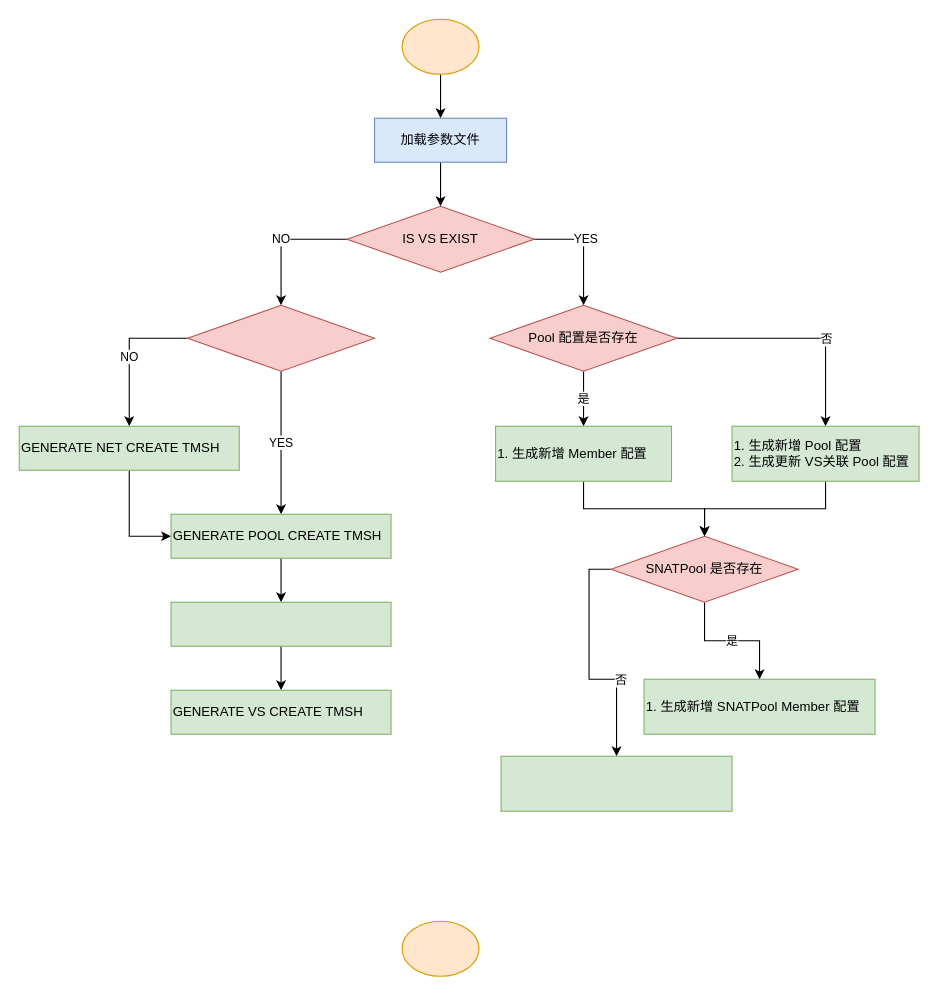
Some shapes in this 938 by 996 pixel diagram are drawn without their labels. The shapes that lost their labels are listed below. From the top down, each one's box as (x1, y1, x2, y2) in pixels, then its label:
(401, 18, 479, 74): START
(186, 304, 375, 371): IS NET EXIST
(170, 601, 391, 646): GENERATE SNAT CREATE TMSH
(500, 755, 732, 811): 1. 生成新增 SNATPool 配置 2. 生成更新 VS 关联 SNATPool 配置
(401, 920, 479, 976): END
